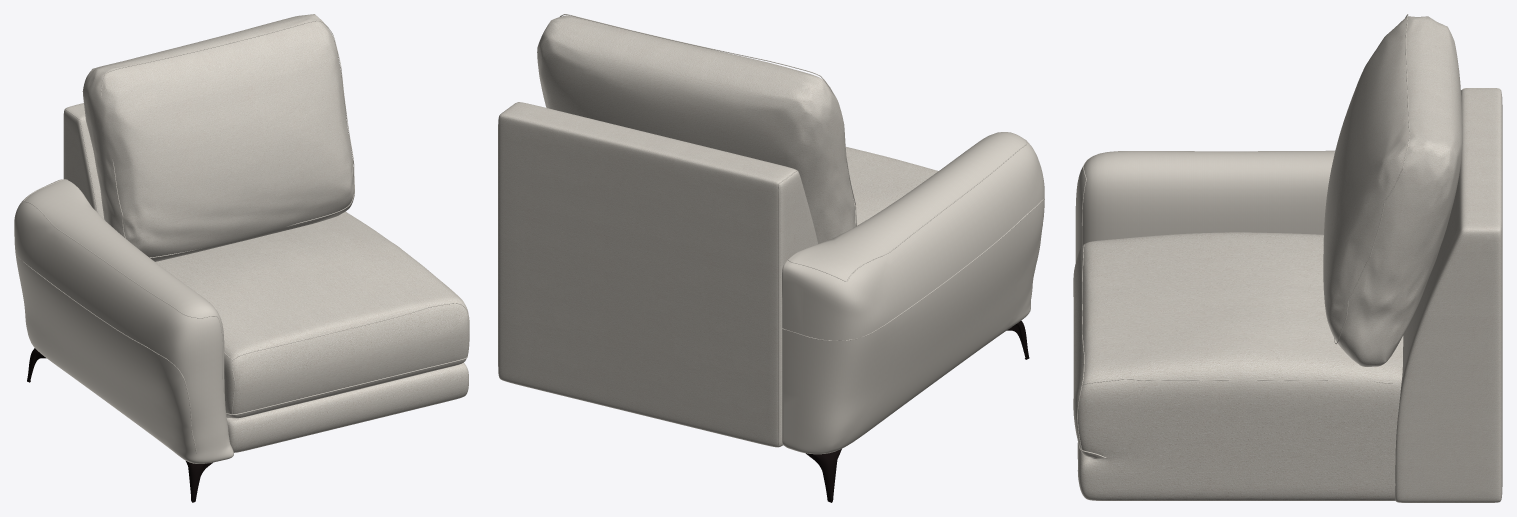
Rendered from arm.glb.
The picture shows the model from 3 angles, left to right: view 1: azimuth 30°, elevation 25°; view 2: azimuth 150°, elevation 25°; view 3: azimuth 270°, elevation 25°; orthographic projection. The views are drawn at different scales.
Parts seen in each view (by area): view 1: D=~ 0,00 m, pé; view 2: D=~ 0,00 m, pé; view 3: D=~ 0,00 m.
Boxes of the visible parts, left/top/right/bottom form: D=~ 0,00 m: left=14, top=14, right=469, bottom=463; pé: left=27, top=348, right=212, bottom=502; D=~ 0,00 m: left=498, top=14, right=1044, bottom=454; pé: left=806, top=320, right=1029, bottom=502; D=~ 0,00 m: left=1073, top=14, right=1502, bottom=502.
Bounding box in the file's own units: 1.02 × 1.05 × 1.03.
3 materials, 1 textured.
